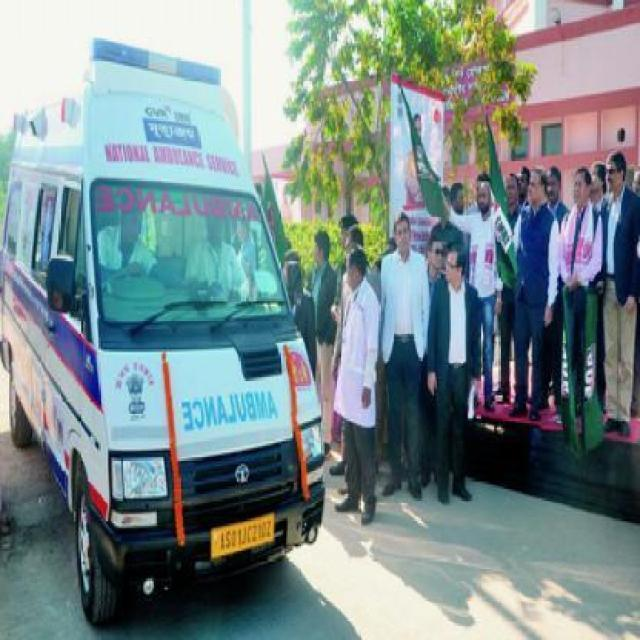emergency: (0, 35, 328, 625)
